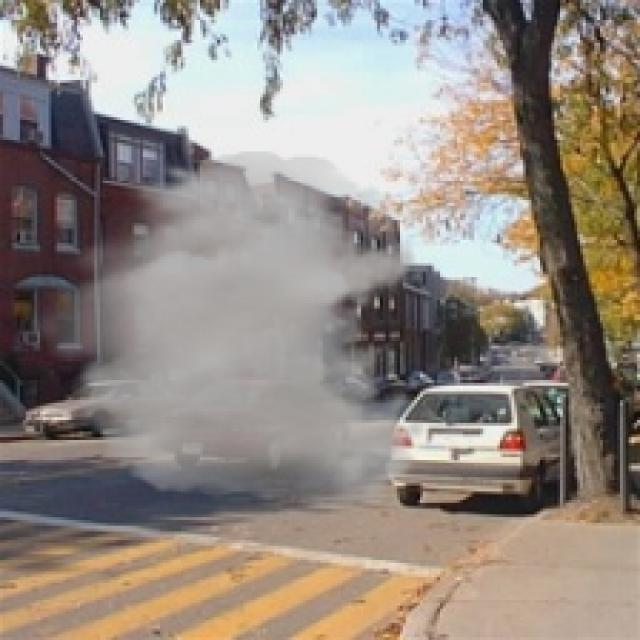Smoke: (20, 152, 429, 512)
